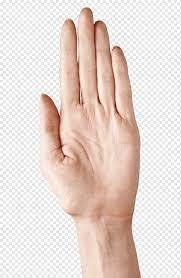palm: (38, 7, 142, 217)
